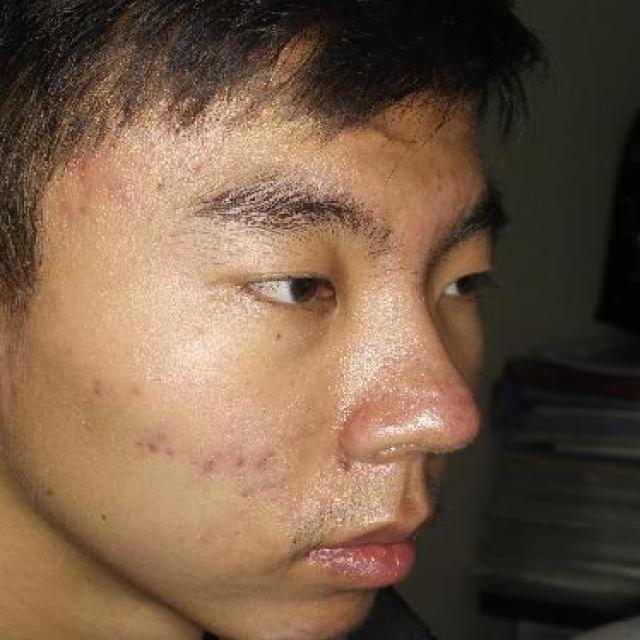dark spot: (134, 423, 176, 460), (84, 364, 109, 404), (195, 448, 223, 482), (231, 451, 252, 475), (127, 382, 149, 402)
nodules: (351, 121, 426, 154)
